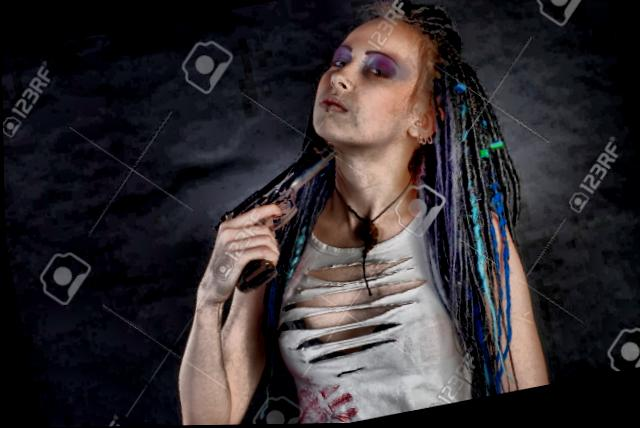pistol: (200, 137, 386, 300)
